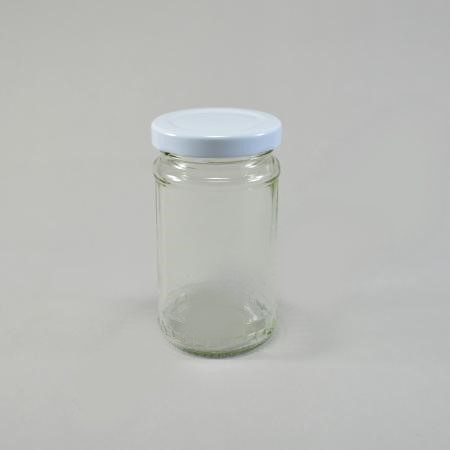glass_bottle: (125, 95, 302, 368)
